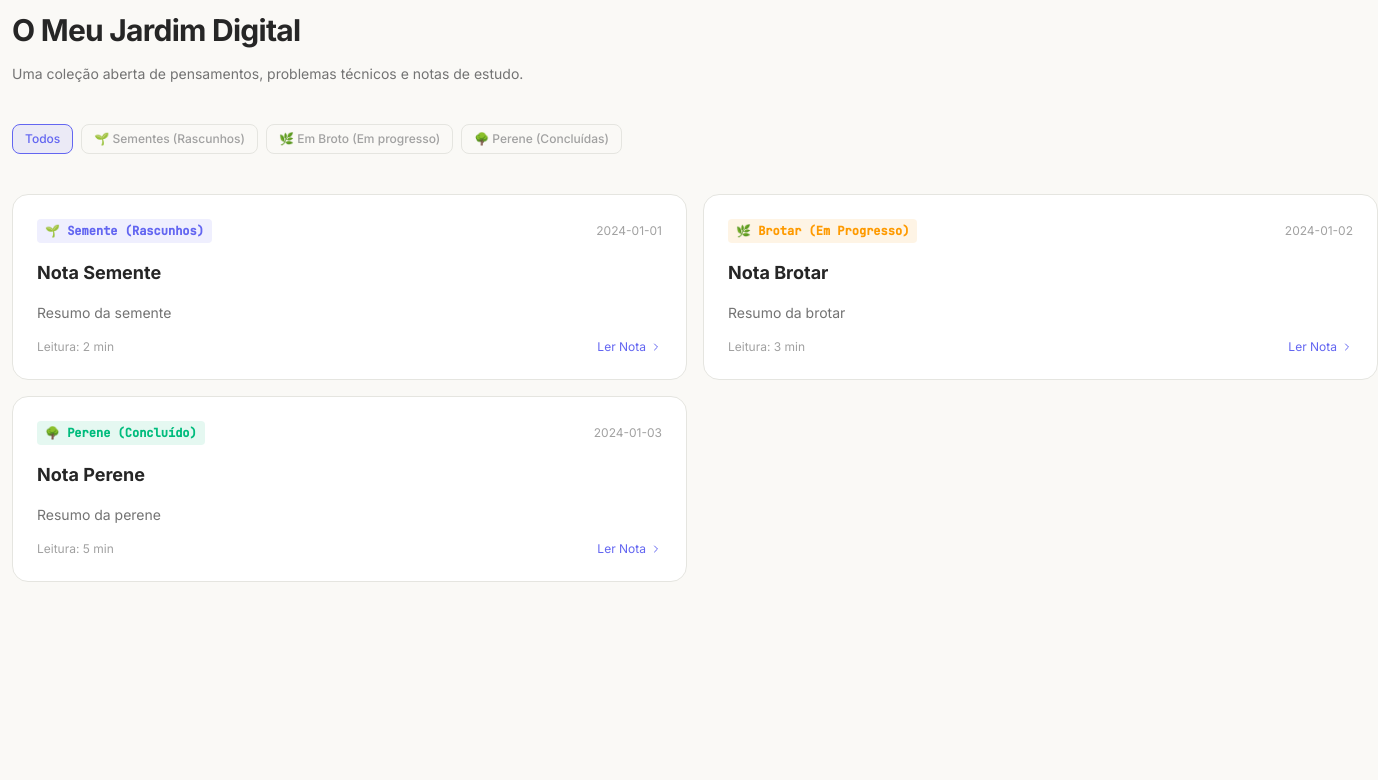
it: GardenSection › filtra apenas notas 'perene' ao clicar no filtro correspondente
The width and height of the screenshot is (1378, 780).
Click the button "🌳 Perene (Concluídas)" at (542, 139), box [461,124,622,154]
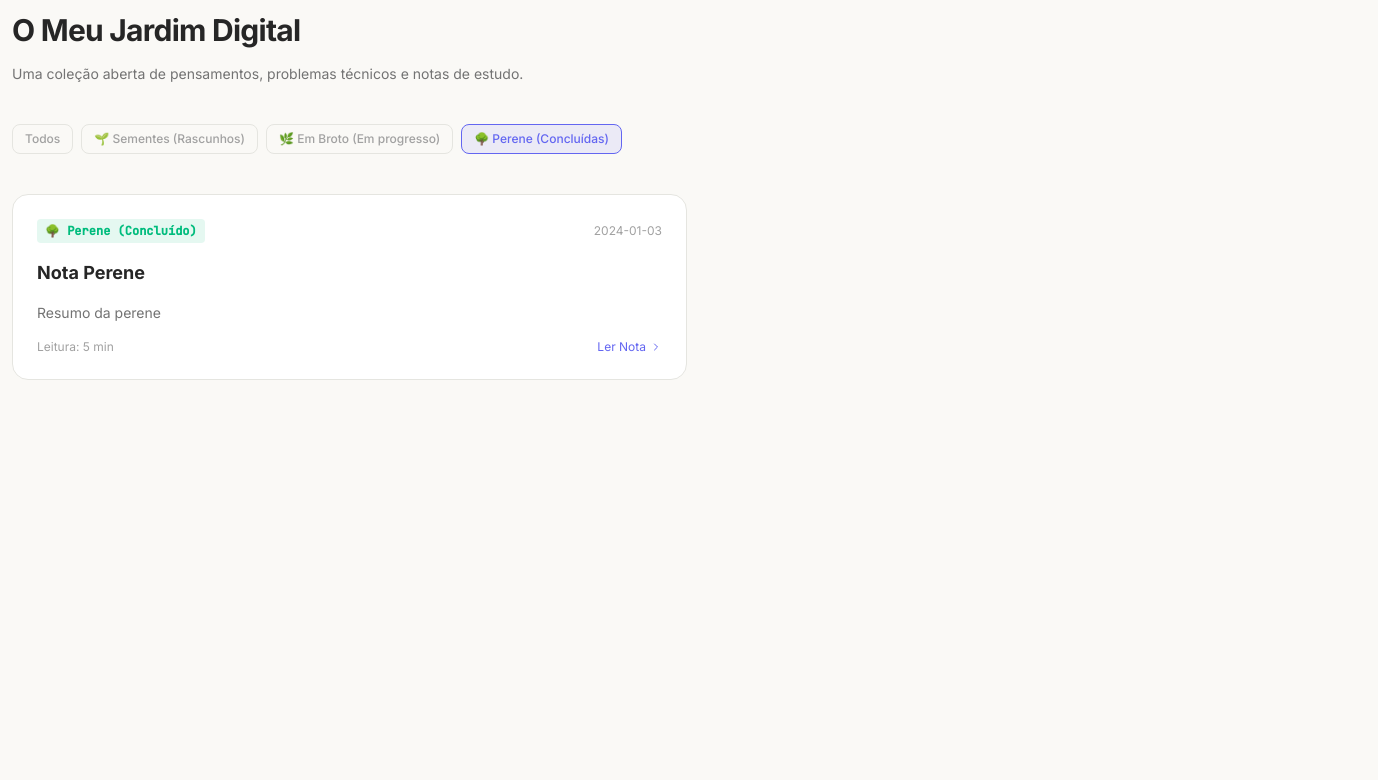
Expected: the heading "Nota Perene" is shown, [37,262,145,283]
Expected: the heading "Nota Semente" is gone
